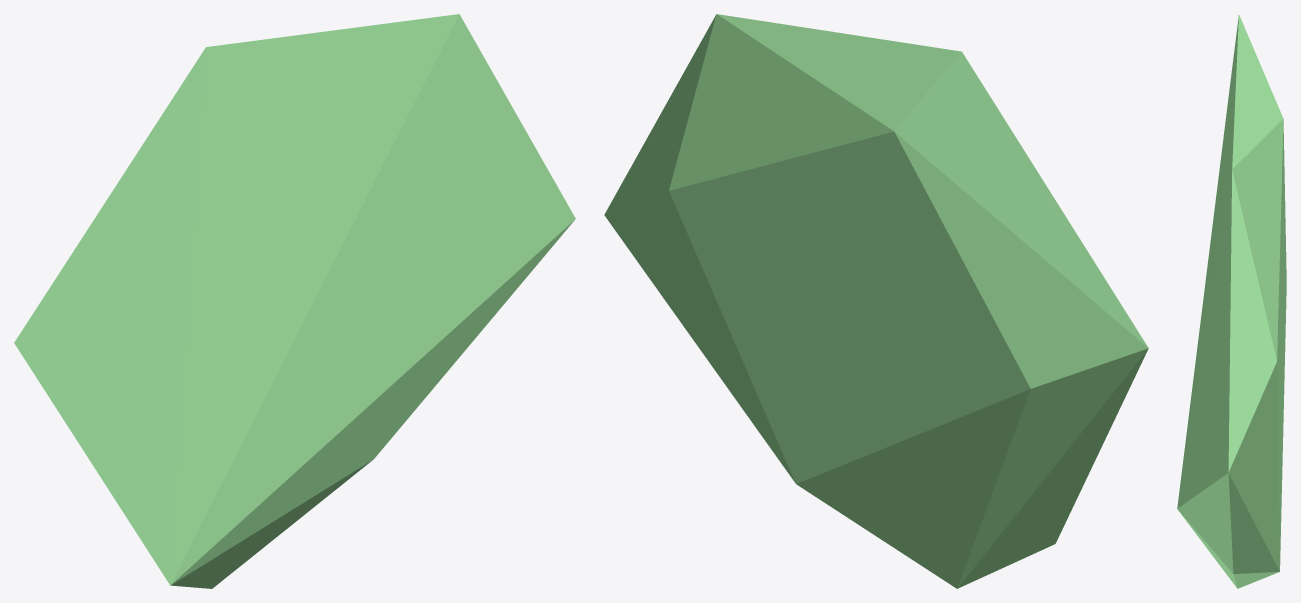
Rendered from linkhou_LR4_R560_link2_respondable_coll_19.dae.
The picture shows the model from 3 angles, left to right: view 1: azimuth 30°, elevation 25°; view 2: azimuth 150°, elevation 25°; view 3: azimuth 270°, elevation 25°; orthographic projection. The views are drawn at different scales.
Parts seen in each view (by area): view 1: Node_00000209DB3ACC00; view 2: Node_00000209DB3ACC00; view 3: Node_00000209DB3ACC00.
Part boxes in pixels (x1,y1,x2,y2): Node_00000209DB3ACC00: (14,14,575,588); Node_00000209DB3ACC00: (604,14,1148,588); Node_00000209DB3ACC00: (1177,15,1286,588).
Size of the model in its own units: 0.0954 by 0.0891 by 0.0155.
